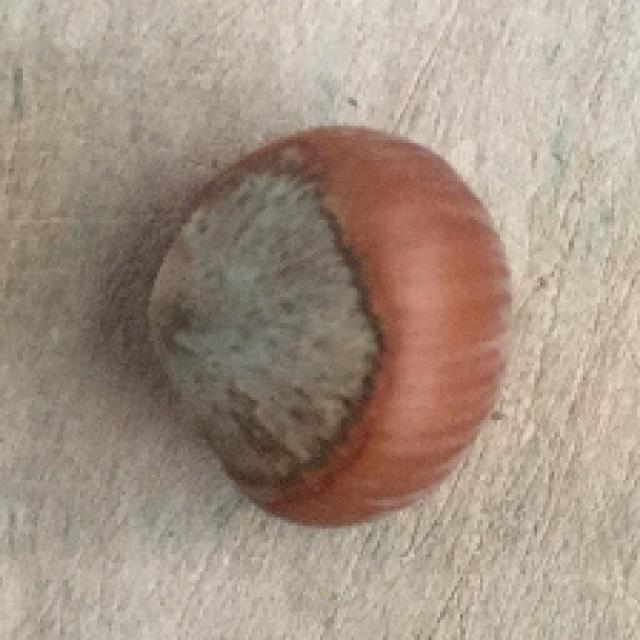qualityHazelnut: (139, 117, 512, 529)
